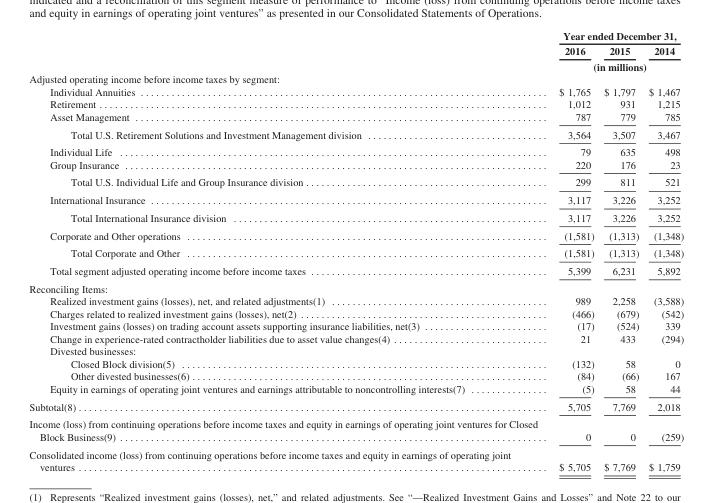table: (28, 29, 683, 472)
table column: (28, 29, 547, 472), (547, 29, 598, 472), (598, 29, 643, 472), (643, 29, 683, 472)
table column header: (28, 29, 683, 72)
table projected row header: (28, 279, 683, 294), (28, 72, 683, 85), (28, 344, 683, 357)
table row: (28, 414, 683, 445), (28, 445, 683, 472), (28, 190, 683, 208), (28, 208, 683, 226), (28, 243, 683, 261), (28, 261, 683, 279), (28, 125, 683, 142), (28, 173, 683, 190), (28, 226, 683, 243), (28, 397, 683, 414), (28, 42, 683, 58), (28, 157, 683, 173), (28, 110, 683, 125), (28, 142, 683, 157), (28, 279, 683, 294), (28, 382, 683, 397), (28, 58, 683, 72), (28, 29, 683, 42), (28, 72, 683, 85), (28, 97, 683, 110), (28, 306, 683, 319), (28, 319, 683, 332), (28, 344, 683, 357), (28, 369, 683, 382), (28, 85, 683, 97), (28, 294, 683, 306), (28, 332, 683, 344), (28, 357, 683, 369)
table spanning cell: (547, 58, 683, 72), (547, 29, 683, 42)
